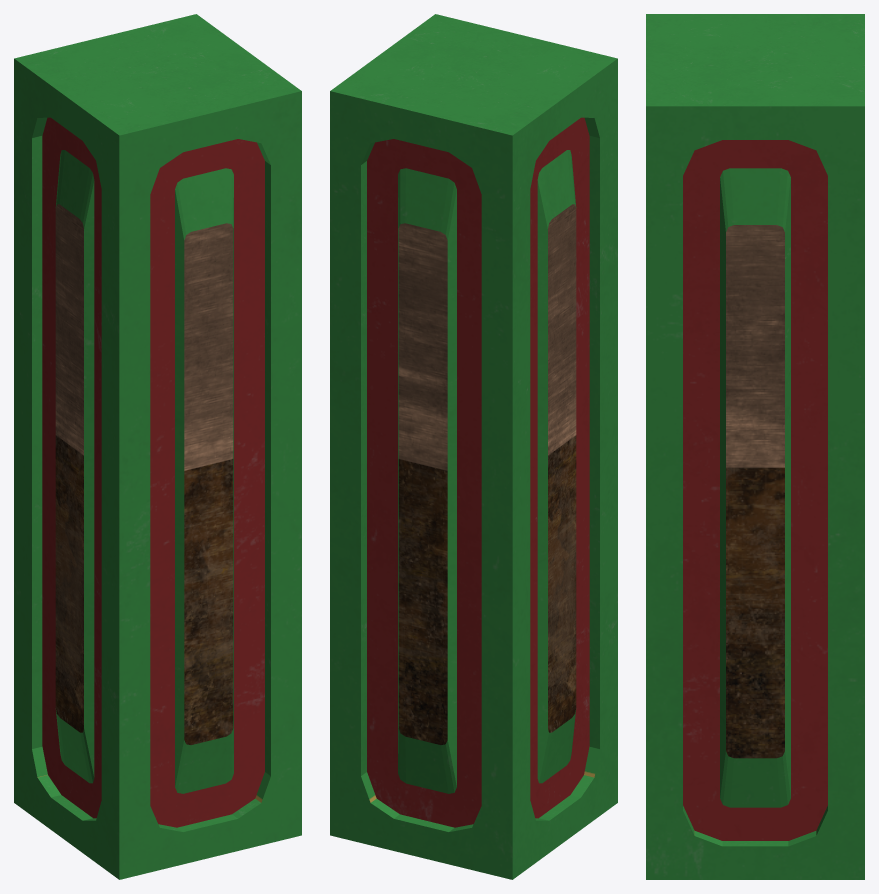
Rendered from Piller.fbx.
3 renders of one model, left to right at view 1: azimuth 30°, elevation 25°; view 2: azimuth 150°, elevation 25°; view 3: azimuth 270°, elevation 25°, orthographic. The views are drawn at different scales.
Visible parts, largest first — view 1: Piller; view 2: Piller; view 3: Piller.
Boxes of the visible parts, left/top/right/bottom form: Piller: left=14, top=14, right=301, bottom=879; Piller: left=330, top=14, right=617, bottom=879; Piller: left=646, top=14, right=864, bottom=879.
Size of the model in its own units: 78.97 by 308 by 78.97.
